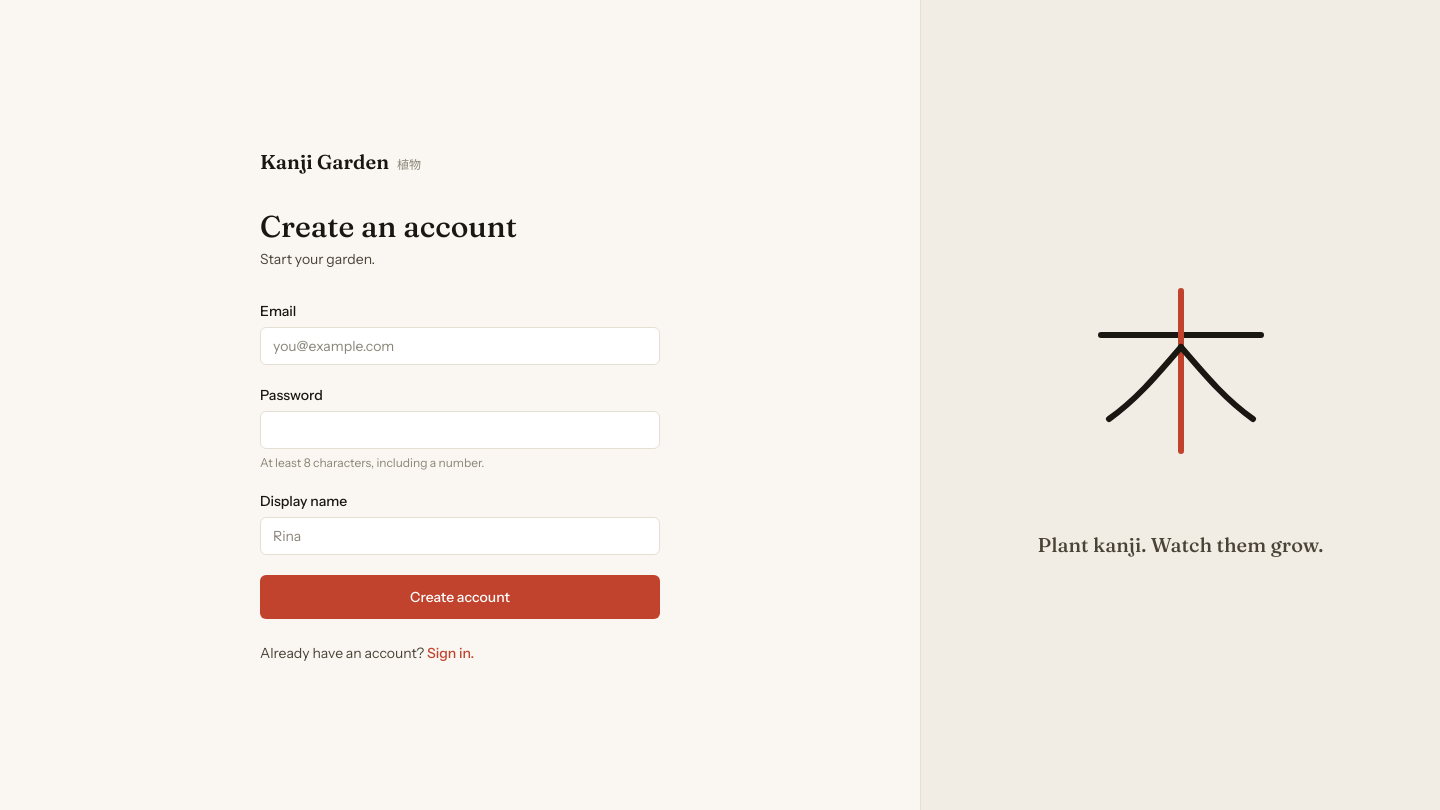
Register screen (§7.11) › requires a display name
Click the button "Create account" at [460, 597], box [260,575,660,619]
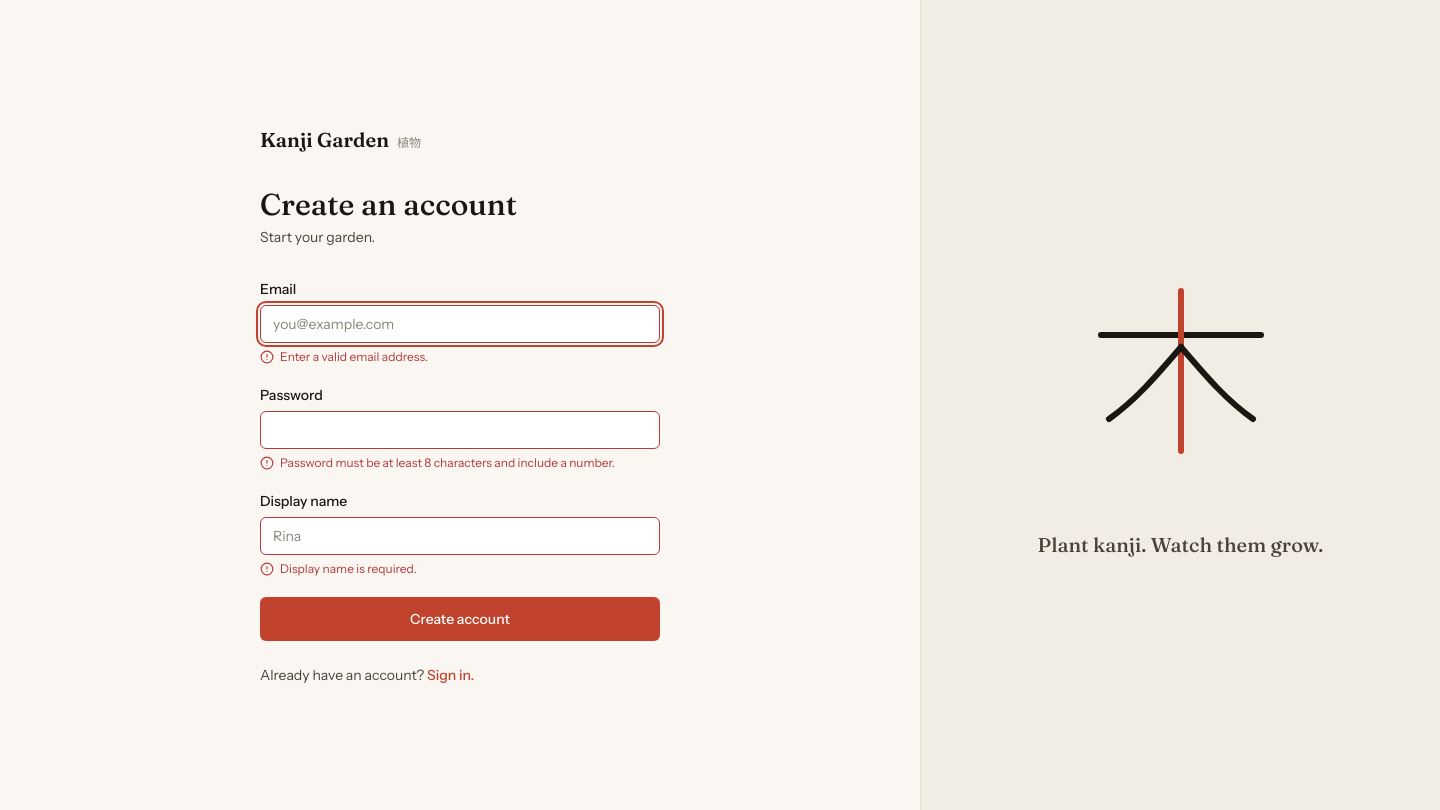
Check: the text "Display name is required." is shown, box [260,561,417,576]
